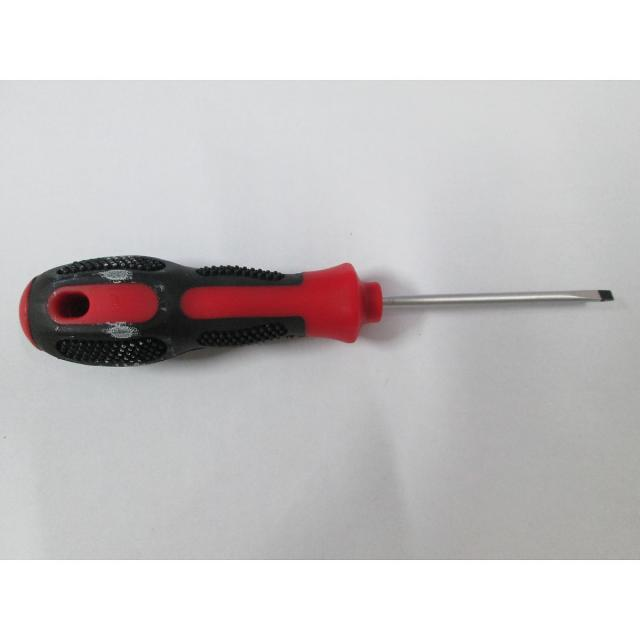screwdriver: (17, 248, 624, 368)
